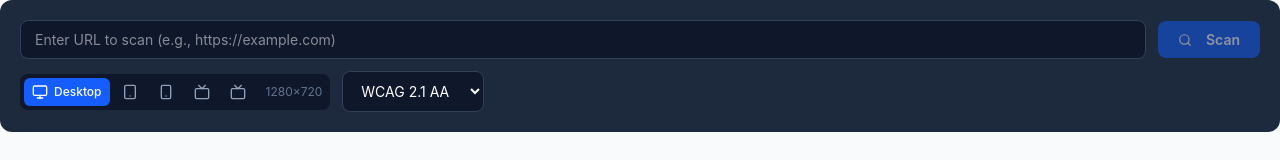
Test: components/scan/ScanForm › shows mobile viewport dimensions text
Step 1. Click the button named "Mobile (1280×720)" → (166, 92), box left=150, top=78, right=182, bottom=106
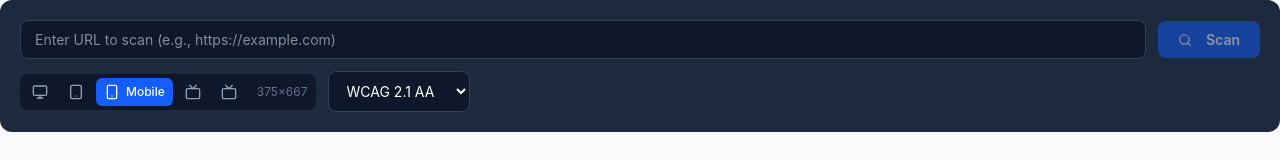
Result: the text "375×667" is shown at left=257, top=84, right=308, bottom=98
